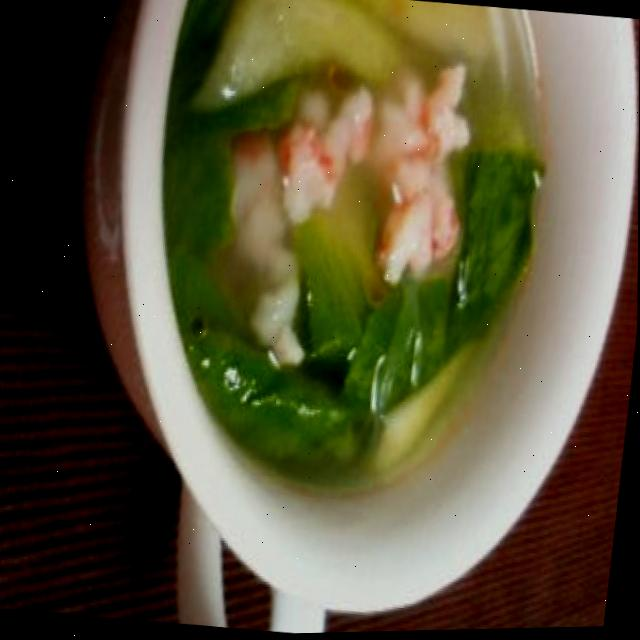汤锅炖物: (26, 0, 640, 639)
